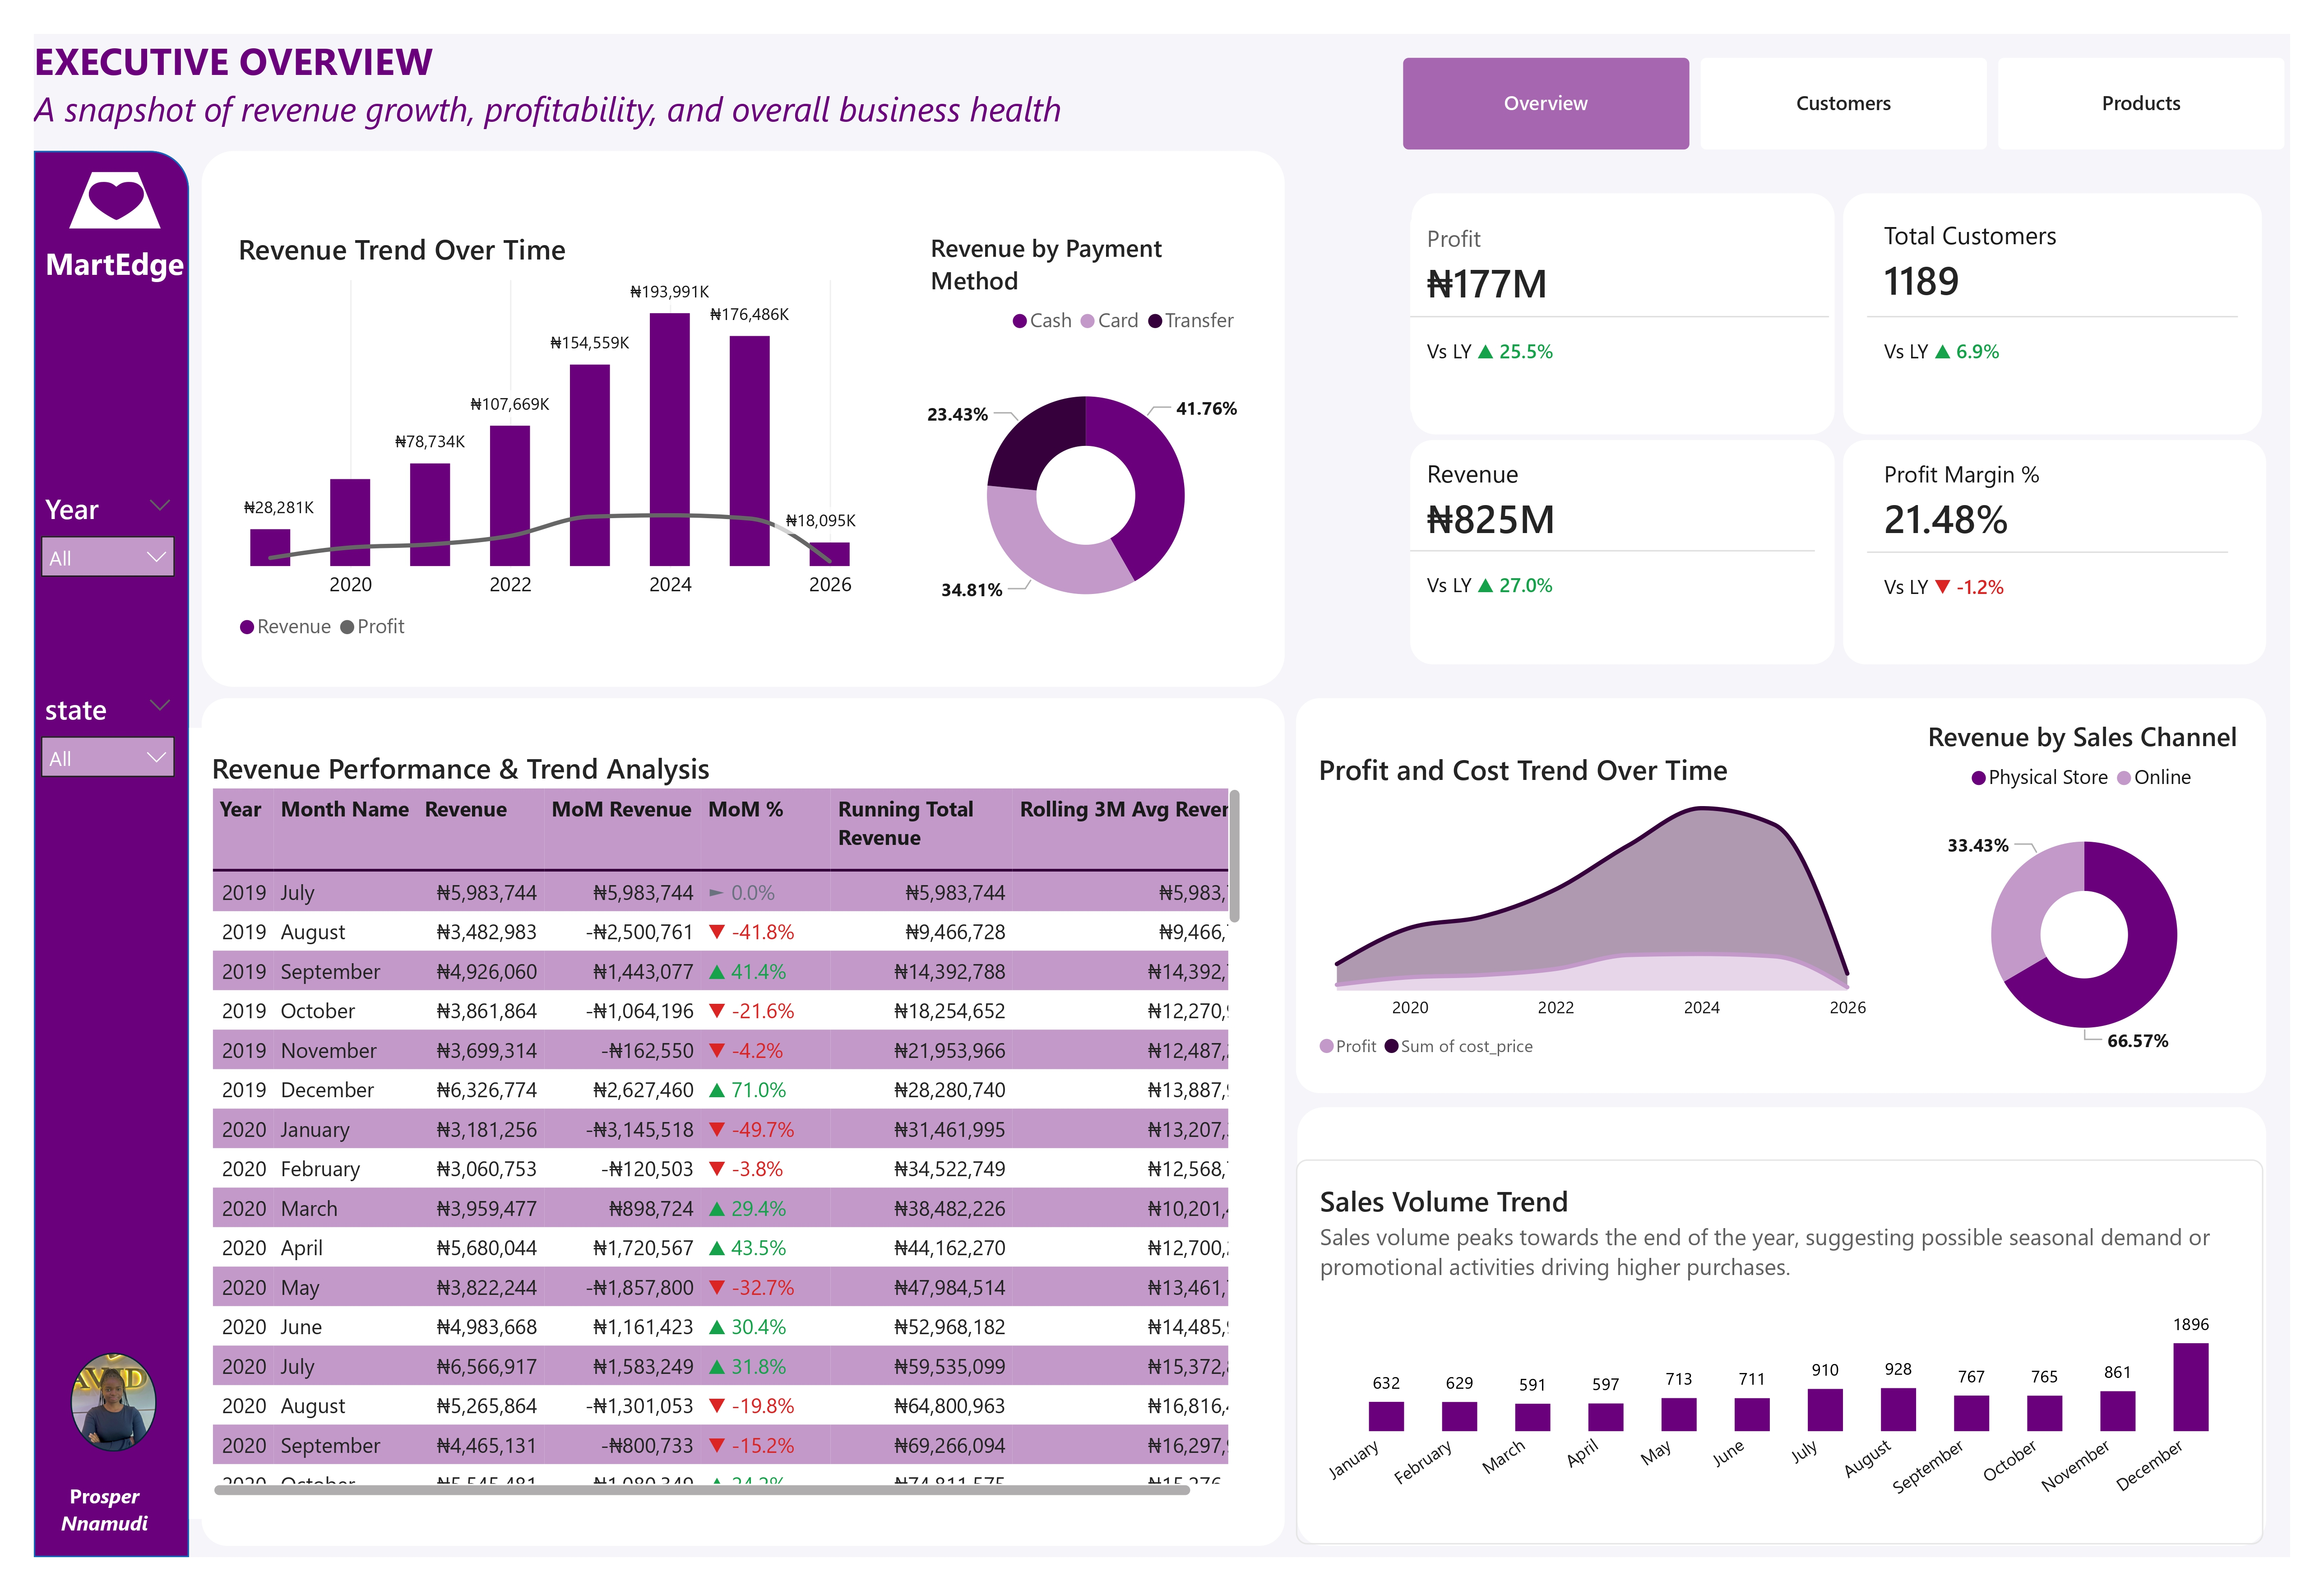

Layout of this report page (visuals, bound fields, positions):
{"tool":"powerbi","page":{"name":" Overview","canvas":[1600,1080],"ordinal":0},"visuals":[{"type":"shape","box":[0,0,1600.9,1080.8],"z":0},{"type":"shape","box":[1282.6,287.5,300,159.7],"z":1000},{"type":"shape","box":[1282.9,113.4,297.6,170.7],"z":2000},{"type":"shape","box":[976.8,113.4,300,170.7],"z":3000},{"type":"shape","box":[975.7,287.5,301.4,159],"z":4000},{"type":"shape","box":[0,82.9,109.8,997.6],"z":5000},{"type":"shape","box":[119.1,83,768.1,379.8],"z":6000},{"type":"shape","box":[895.4,470.9,688,280.6],"z":7000},{"type":"shape","box":[895.5,760.7,687.6,311.2],"z":8000},{"type":"shape","box":[119.1,471.3,768.1,601.1],"z":9000},{"type":"tableEx","title":"Revenue Performance & Trend Analysis","fields":{"Values":["Date.Year","Date.Month Name","_Measure.Total Revenue","_Measure.MoM Revenue","_Measure.MoM Arrow","_Measure.Running Total Revenue YTD","_Measure.Rolling 3M Avg Revenue"]},"box":[110,491.7,761.7,561.7],"z":10000},{"type":"lineClusteredColumnComboChart","title":"Revenue Trend Over Time","fields":{"Category":["Date.Year","Date.Month Name","Date.Quarter"],"Y":["_Measure.Total Revenue"],"Y2":["_Measure.Total Profit"]},"box":[129.3,124.4,473.3,326.9],"z":11000},{"type":"donutChart","title":"Revenue by Sales Channel","fields":{"Category":["fact_sales.sales_channel"],"Y":["_Measure.Total Revenue"]},"box":[1327.3,470.9,253.7,280.6],"z":12000},{"type":"stackedAreaChart","title":"Profit and Cost Trend Over Time","fields":{"Category":["Date.Year"],"Y":["_Measure.Total Profit","Sum(fact_sales.cost_price)"]},"box":[895.4,492.8,419.6,253.7],"z":13000},{"type":"columnChart","title":"Sales Volume Trend","fields":{"Category":["Date.Year","Date.Month Name","Date.Quarter"],"Y":["CountNonNull(fact_sales.quantity_sold)"]},"box":[895.4,797.8,685.6,273.3],"z":14000},{"type":"donutChart","title":"Revenue by Payment Method","fields":{"Category":["fact_sales.payment_method"],"Y":["_Measure.Total Revenue"]},"box":[620,125,251.7,326.7],"z":15000},{"type":"cardVisual","fields":{"Data":["_Measure.Total Revenue"]},"box":[975.9,295.2,287.9,141.5],"z":16000},{"type":"cardVisual","fields":{"Data":["_Measure.Profit Margin %"]},"box":[1300,296.3,256.1,141.5],"z":17000},{"type":"cardVisual","fields":{"Data":["_Measure.Total Profit"]},"box":[975.9,126.9,297.7,146.4],"z":18000},{"type":"cardVisual","fields":{"Data":["_Measure.Total Customers"]},"box":[1300,123.2,263.4,153.7],"z":19000},{"type":"textbox","box":[0,0,975.9,83],"z":21000},{"type":"pageNavigator","box":[971,17.1,627,65.9],"z":22000},{"type":"shape","box":[25,97.5,65,40],"z":22001,"group":"g1"},{"type":"shape","box":[38.6,104.8,39.3,26.7],"z":22002,"group":"g1"},{"type":"group","id":"g1","title":"Group 1","box":[25,97.5,65,40],"z":22003},{"type":"slicer","fields":{"Values":["Date.Year"]},"box":[0,322.1,104.9,85.4],"z":22004},{"type":"slicer","fields":{"Values":["dim_store.state"]},"box":[0,463.6,104.9,85.4],"z":22005},{"type":"image","box":[20,935,72.5,70],"z":22006},{"type":"textbox","box":[7.3,1027.2,85.4,53.7],"z":22007},{"type":"textbox","box":[7.5,147.5,120,52.5],"z":22008}]}

Visuals, with their boxes on the page's 1600x1080 design canvas (x1, y1, x2, y2). These are canvas units, not pixel positions in the 2324x1591 screenshot, which may show the page scaled, cropped or inside an application window:
shape: 0, 0, 1601, 1081
shape: 1283, 288, 1583, 447
shape: 1283, 113, 1580, 284
shape: 977, 113, 1277, 284
shape: 976, 288, 1277, 446
shape: 0, 83, 110, 1080
shape: 119, 83, 887, 463
shape: 895, 471, 1583, 752
shape: 896, 761, 1583, 1072
shape: 119, 471, 887, 1072
"Revenue Performance & Trend Analysis" tableEx: 110, 492, 872, 1053
"Revenue Trend Over Time" lineClusteredColumnComboChart: 129, 124, 603, 451
"Revenue by Sales Channel" donutChart: 1327, 471, 1581, 752
"Profit and Cost Trend Over Time" stackedAreaChart: 895, 493, 1315, 746
"Sales Volume Trend" columnChart: 895, 798, 1581, 1071
"Revenue by Payment Method" donutChart: 620, 125, 872, 452
cardVisual - _Measure.Total Revenue: 976, 295, 1264, 437
cardVisual - _Measure.Profit Margin %: 1300, 296, 1556, 438
cardVisual - _Measure.Total Profit: 976, 127, 1274, 273
cardVisual - _Measure.Total Customers: 1300, 123, 1563, 277
textbox: 0, 0, 976, 83
pageNavigator: 971, 17, 1598, 83
shape: 25, 98, 90, 138
shape: 39, 105, 78, 132
"Group 1" group: 25, 98, 90, 138
slicer - Date.Year: 0, 322, 105, 408
slicer - dim_store.state: 0, 464, 105, 549
image: 20, 935, 92, 1005
textbox: 7, 1027, 93, 1081
textbox: 8, 148, 128, 200
